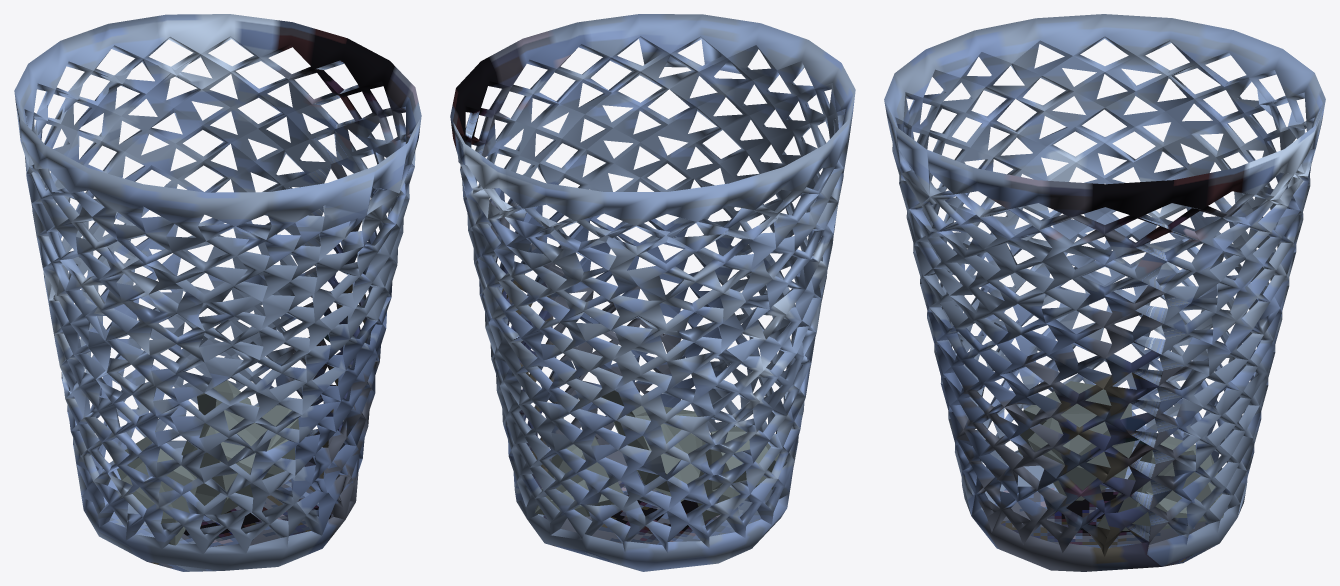
File:  Cestino.fbx
3 renders of one model, left to right at view 1: azimuth 30°, elevation 25°; view 2: azimuth 150°, elevation 25°; view 3: azimuth 270°, elevation 25°, orthographic.
Parts seen in each view (by area): view 1: cestino; view 2: cestino; view 3: cestino.
Part boxes in pixels (x1,y1,x2,y2): cestino: (14, 14, 421, 571); cestino: (450, 14, 855, 571); cestino: (884, 14, 1325, 571).
Bounding box in the file's own units: 0.4767 × 0.5582 × 0.5227.
Materials: 2 (2 with a texture image).
